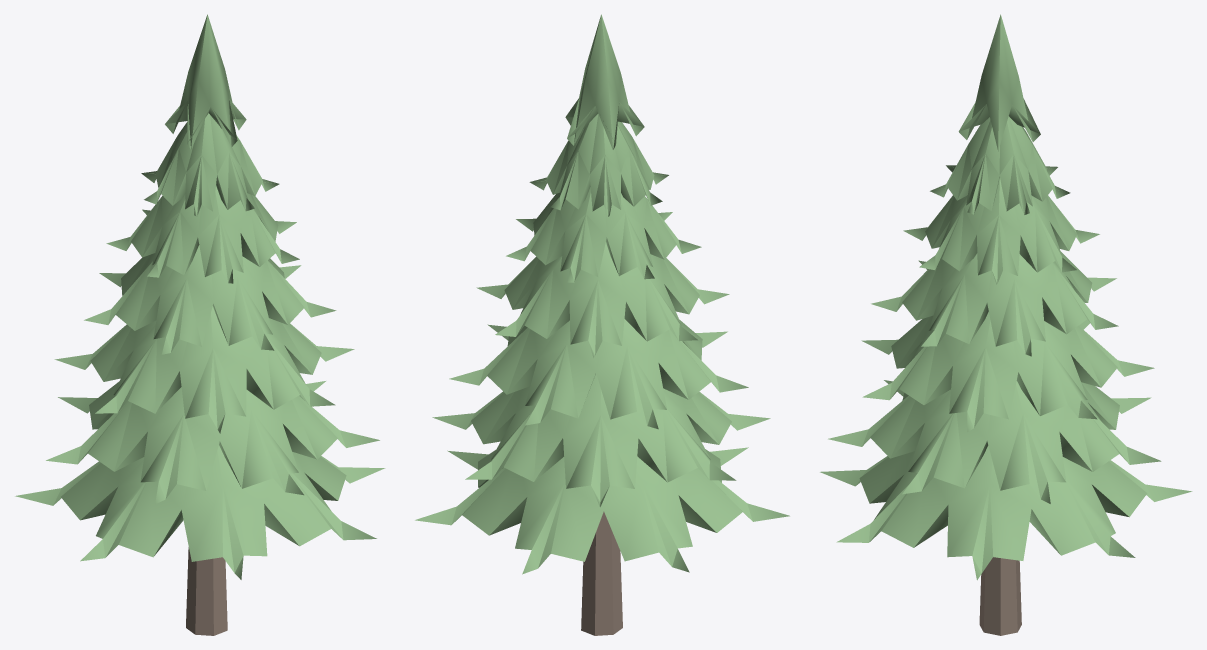
Rendered from tree-pine-b.glb.
3 renders of one model, left to right at view 1: azimuth 30°, elevation 25°; view 2: azimuth 150°, elevation 25°; view 3: azimuth 270°, elevation 25°, orthographic.
Visible parts, largest first — view 1: tree-pine-b; view 2: tree-pine-b; view 3: tree-pine-b.
Boxes of the visible parts, x1=… form: tree-pine-b: x1=15, y1=14, x2=385, y2=635; tree-pine-b: x1=415, y1=14, x2=789, y2=635; tree-pine-b: x1=820, y1=14, x2=1192, y2=635.
Size of the model in its own units: 0.5542 by 1 by 0.5529.
